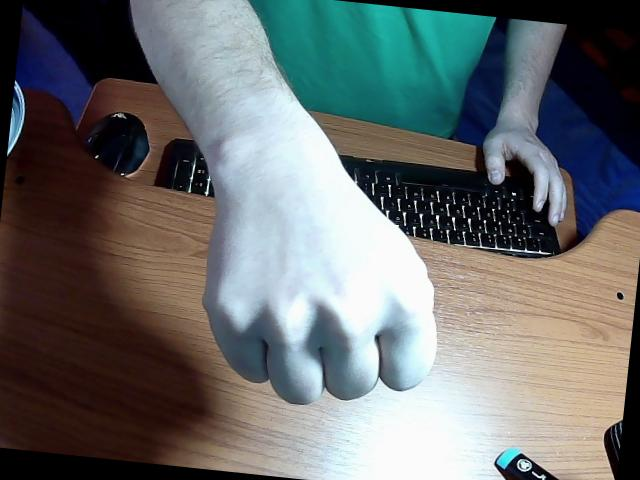rock: (203, 99, 437, 404)
